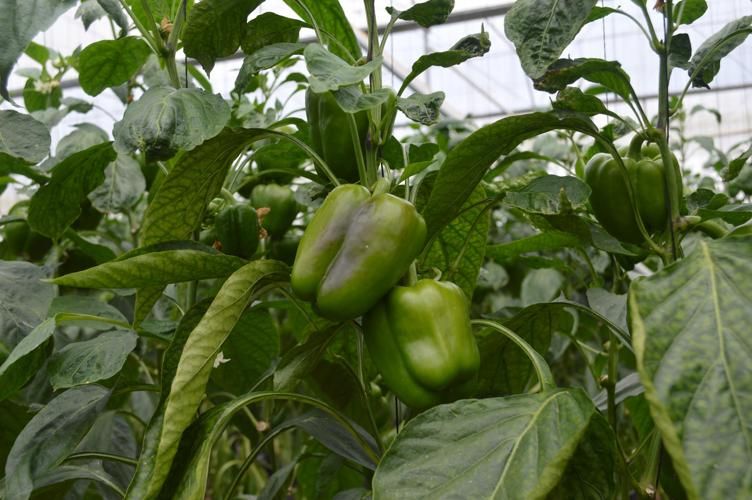BellPepper: (288, 185, 426, 317), (354, 279, 484, 407), (586, 143, 681, 239), (303, 88, 390, 174), (248, 185, 297, 241), (218, 205, 259, 257)
